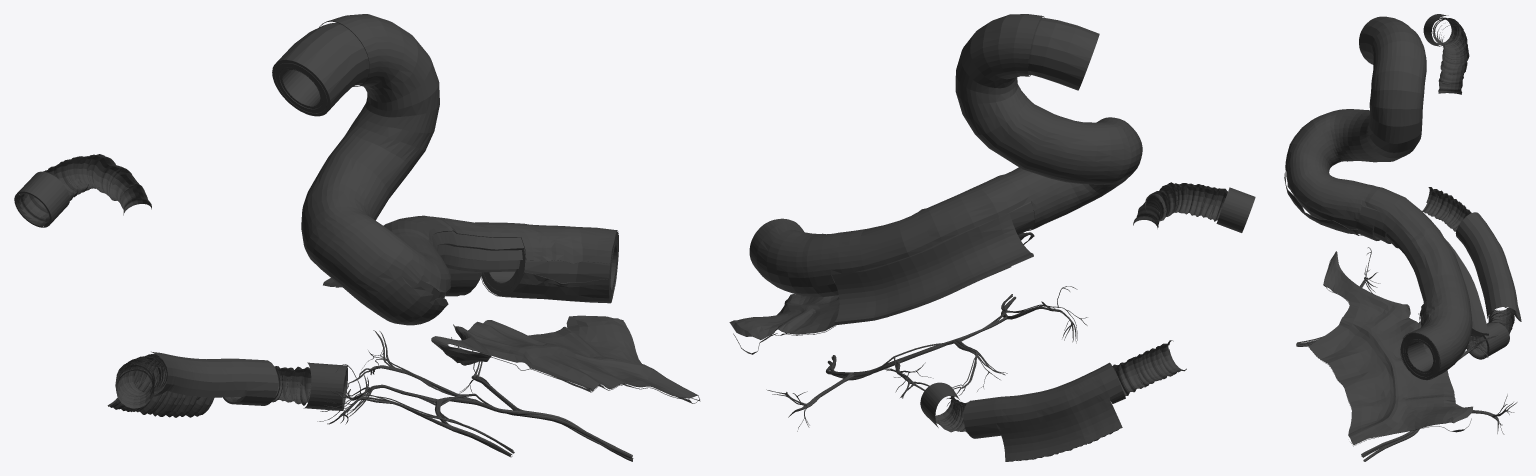
File: sharedassets93.glb
3 views of the same model, side by side, from view 1: azimuth 30°, elevation 25°; view 2: azimuth 150°, elevation 25°; view 3: azimuth 270°, elevation 25° (orthographic). The views are drawn at different scales.
Parts seen in each view (by area): view 1: 0001_Serosa__302720, 0000_Mesentery__302719, 0007_Circular folds__302727, 0002_Longitudinal muscle layer__302722, 0006_Mucosa__302726, 0005_Muscularis mucosae__302725, 0003_Circular muscle layer__302723, 0004_Submucosa__302724, 0016_Superior mesenteric nerve__302716, 0013_Superior mesenteric vein, vasa recta__30, 0011_Superior mesenteric artery__302737; view 2: 0001_Serosa__302720, 0002_Longitudinal muscle layer__302722, 0006_Mucosa__302726, 0007_Circular folds__302727, 0000_Mesentery__302719, 0016_Superior mesenteric nerve__302716; view 3: 0001_Serosa__302720, 0000_Mesentery__302719, 0006_Mucosa__302726, 0002_Longitudinal muscle layer__302722, 0007_Circular folds__302727, 0003_Circular muscle layer__302723, 0005_Muscularis mucosae__302725, 0004_Submucosa__302724, 0016_Superior mesenteric nerve__302716.
Part boxes in pixels (x1,y1,x2,y2): 0001_Serosa__302720: (301,14,618,325); 0000_Mesentery__302719: (431,315,700,403); 0007_Circular folds__302727: (16,154,347,417); 0002_Longitudinal muscle layer__302722: (272,22,618,302); 0006_Mucosa__302726: (14,171,347,410); 0005_Muscularis mucosae__302725: (282,69,616,295); 0003_Circular muscle layer__302723: (275,63,617,297); 0004_Submucosa__302724: (280,67,617,296); 0016_Superior mesenteric nerve__302716: (317,346,632,457); 0013_Superior mesenteric vein, vasa recta__30: (359,366,518,423); 0011_Superior mesenteric artery__302737: (441,409,632,458); 0001_Serosa__302720: (749,14,1142,296); 0002_Longitudinal muscle layer__302722: (831,17,1099,325); 0006_Mucosa__302726: (920,187,1255,461); 0007_Circular folds__302727: (935,182,1227,461); 0000_Mesentery__302719: (729,232,1034,354); 0016_Superior mesenteric nerve__302716: (792,286,1087,427); 0001_Serosa__302720: (1284,25,1472,380); 0000_Mesentery__302719: (1308,251,1472,446); 0006_Mucosa__302726: (1423,14,1521,359); 0002_Longitudinal muscle layer__302722: (1291,16,1488,379); 0007_Circular folds__302727: (1422,17,1520,358); 0003_Circular muscle layer__302723: (1373,220,1482,376); 0005_Muscularis mucosae__302725: (1407,341,1433,371); 0004_Submucosa__302724: (1386,233,1476,373); 0016_Superior mesenteric nerve__302716: (1296,247,1507,456).
Size of the model in its own units: 0.1957 by 0.1482 by 0.0926.
Materials: 1 (1 with a texture image).
